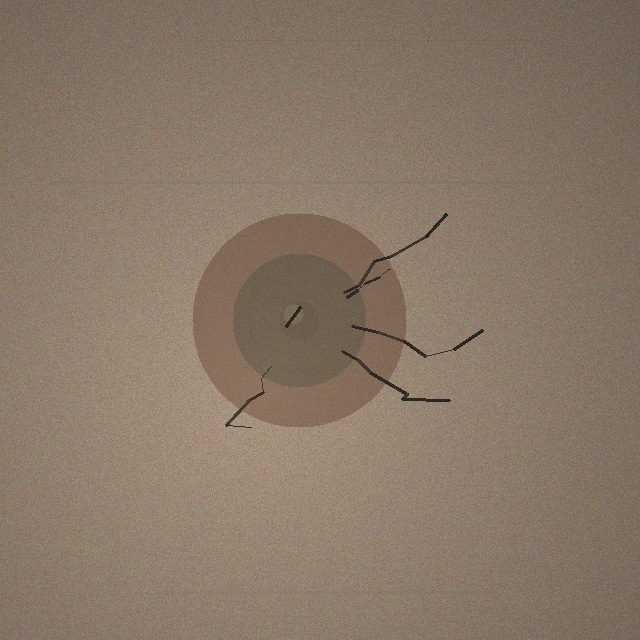crack: (192, 213, 406, 427)
